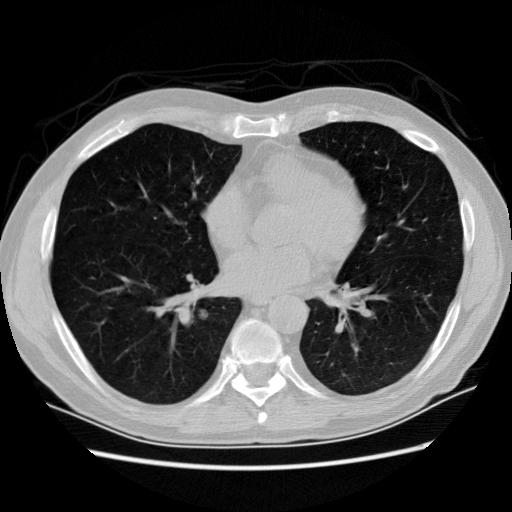nodule: (195, 307, 210, 322)
